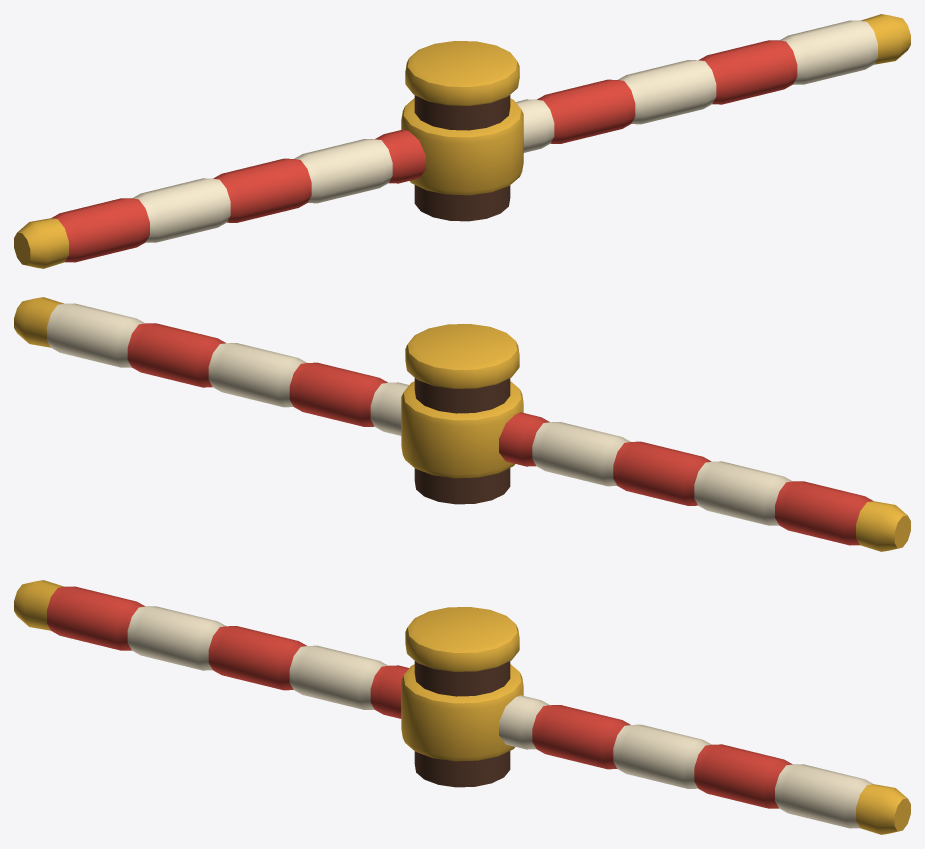
Rendered from dash_sweeper.glb.
3 views of the same model, one above another, from view 1: azimuth 30°, elevation 25°; view 2: azimuth 150°, elevation 25°; view 3: azimuth 330°, elevation 25° (orthographic).
Parts seen in each view (by area): view 1: Bar, Post; view 2: Bar, Post; view 3: Bar, Post.
Part boxes in pixels (x1=…): Bar: x1=14, y1=14, x2=910, y2=268; Post: x1=405, y1=41, x2=519, y2=221; Bar: x1=14, y1=297, x2=910, y2=551; Post: x1=405, y1=324, x2=519, y2=504; Bar: x1=14, y1=580, x2=910, y2=834; Post: x1=405, y1=607, x2=519, y2=787.
Size of the model in its own units: 7.4 by 1.12 by 0.9.
